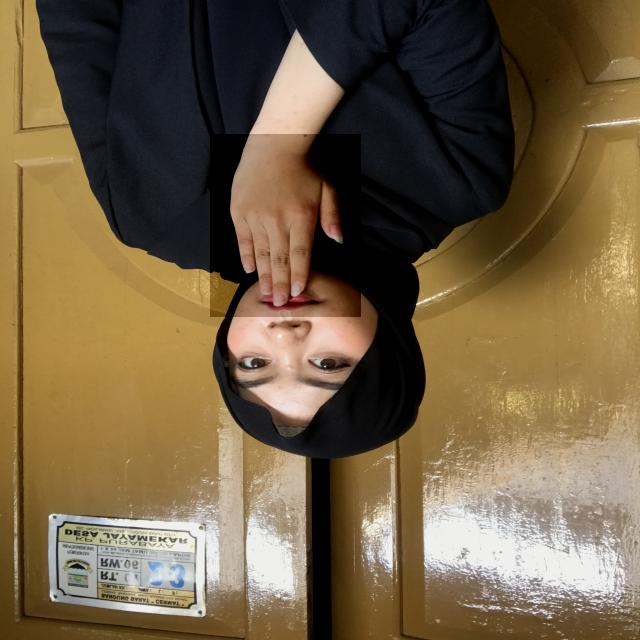ganteng: (210, 134, 361, 317)
